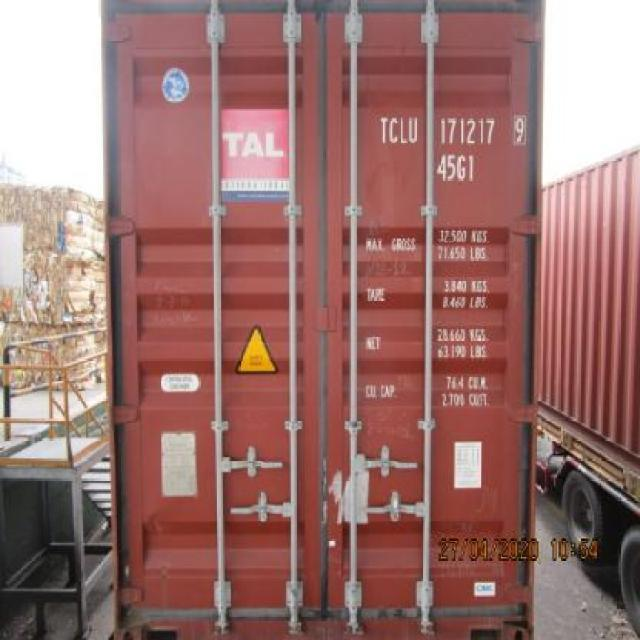ISO: (436, 152, 478, 182)
container_number: (382, 116, 526, 147)
